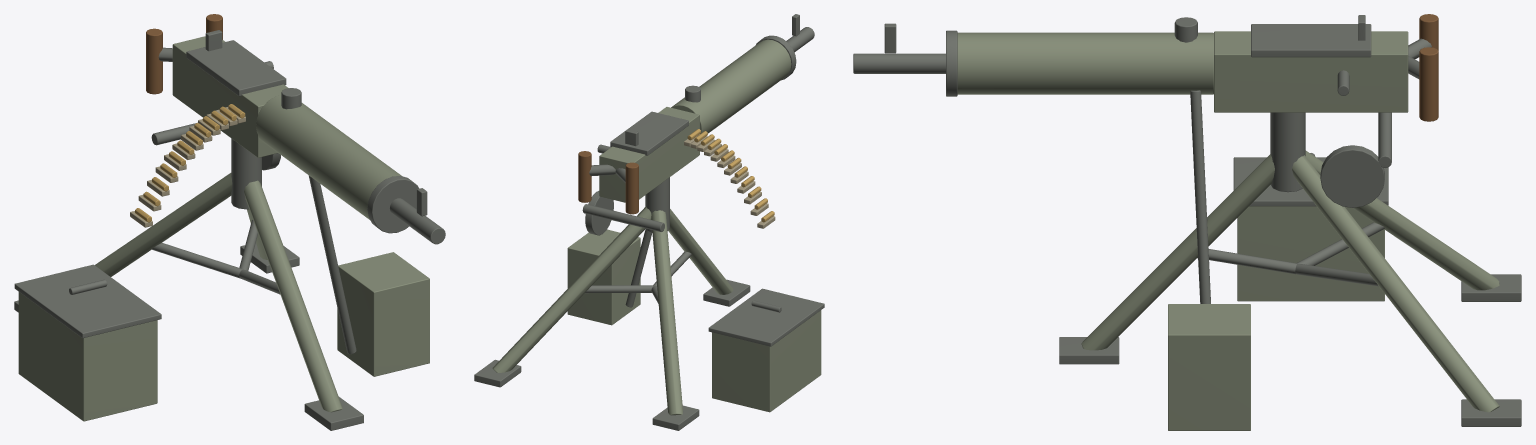
Rendered from polish_hmg.glb.
The picture shows the model from 3 angles, left to right: view 1: azimuth 30°, elevation 25°; view 2: azimuth 150°, elevation 25°; view 3: azimuth 270°, elevation 25°; orthographic projection. The views are drawn at different scales.
Parts seen in each view (by area): view 1: ammo_box, water_can, water_jacket, ammo_lid, tripod_leg_2, receiver, tripod_leg_0, feed_cover, front_jacket_cap, hose, pintle, gun_barrel (+8 smaller); view 2: ammo_box, water_jacket, water_can, receiver, ammo_lid, tripod_leg_1, tripod_leg_0, feed_cover, tripod_leg_2, traverse_screw, pintle, spade_grip_-1 (+9 smaller); view 3: water_jacket, receiver, water_can, ammo_box, tripod_leg_1, tripod_leg_2, feed_cover, tripod_leg_0, elevation_wheel, hose, pintle, gun_barrel (+10 smaller).
Boxes of the visible parts, x1=… form: ammo_box: x1=18, y1=292, x2=157, y2=421; water_can: x1=337, y1=252, x2=429, y2=376; water_jacket: x1=256, y1=95, x2=401, y2=220; ammo_lid: x1=14, y1=264, x2=161, y2=338; tripod_leg_2: x1=244, y1=180, x2=342, y2=412; receiver: x1=172, y1=36, x2=288, y2=157; tripod_leg_0: x1=95, y1=173, x2=232, y2=276; feed_cover: x1=186, y1=40, x2=286, y2=96; front_jacket_cap: x1=367, y1=176, x2=419, y2=233; hose: x1=308, y1=175, x2=356, y2=354; pintle: x1=231, y1=138, x2=261, y2=209; gun_barrel: x1=390, y1=198, x2=445, y2=244; ammo_box: x1=712, y1=310, x2=821, y2=412; water_jacket: x1=671, y1=39, x2=791, y2=133; water_can: x1=567, y1=229, x2=640, y2=325; receiver: x1=599, y1=107, x2=699, y2=202; ammo_lid: x1=708, y1=288, x2=824, y2=346; tripod_leg_1: x1=492, y1=206, x2=651, y2=372; tripod_leg_0: x1=651, y1=210, x2=683, y2=415; feed_cover: x1=610, y1=111, x2=688, y2=155; tripod_leg_2: x1=668, y1=209, x2=733, y2=294; traverse_screw: x1=582, y1=204, x2=664, y2=231; pintle: x1=645, y1=177, x2=669, y2=232; spade_grip_-1: x1=625, y1=162, x2=638, y2=214; water_jacket: x1=957, y1=32, x2=1213, y2=94; receiver: x1=1214, y1=31, x2=1408, y2=112; water_can: x1=1168, y1=304, x2=1250, y2=430; ammo_box: x1=1237, y1=206, x2=1384, y2=301; tripod_leg_1: x1=1292, y1=155, x2=1499, y2=412; tripod_leg_2: x1=1081, y1=154, x2=1274, y2=350; feed_cover: x1=1251, y1=24, x2=1371, y2=57; tripod_leg_0: x1=1305, y1=150, x2=1499, y2=290; elevation_wheel: x1=1320, y1=145, x2=1384, y2=207; hose: x1=1190, y1=90, x2=1210, y2=303; pintle: x1=1270, y1=112, x2=1305, y2=192; gun_barrel: x1=853, y1=53, x2=945, y2=73.
Bounding box in the file's own units: 0.9025 × 0.8225 × 1.44.
